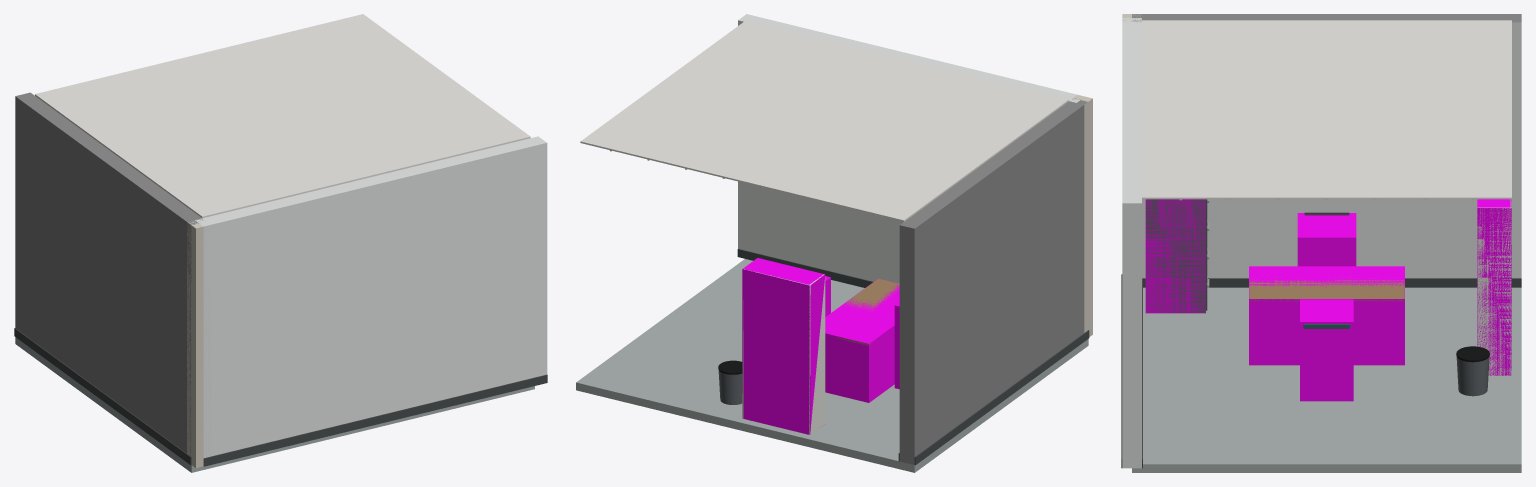
File: ENV_ResearchPhysicianOfficeB.glb
3 views of the same model, side by side, from view 1: azimuth 30°, elevation 25°; view 2: azimuth 150°, elevation 25°; view 3: azimuth 270°, elevation 25° (orthographic). The views are drawn at different scales.
Parts seen in each view (by area): view 1: ENV_ResearchPhysicianOfficeB_Architecture, ENV_ResearchPhysicianOfficeB_Ceiling, ENV_ResearchPhysicianOfficeB_Posts; view 2: ENV_ResearchPhysicianOfficeB_Architecture, ENV_ResearchPhysicianOfficeB_Ceiling, PROP_Bookcase_Binders_COL-colonly.001, PROP_Desk_Clinical_COL-colonly.001, ENV_ResearchPhysicianOfficeB_Posts, PROP_Bookcase_Binders_Mesh.001, PROP_Bin_Waste_Mesh, PROP_Desk_Clinical_Mesh.001; view 3: ENV_ResearchPhysicianOfficeB_Architecture, ENV_ResearchPhysicianOfficeB_Ceiling, PROP_Desk_Clinical_COL-colonly.001, PROP_Cabinet_Filing_4Drawer_Mesh.001, PROP_Cabinet_Filing_4Drawer_COL-colonly.001, PROP_Bookcase_Binders_COL-colonly.001, PROP_Chair_Visitor_COL-colonly.001, PROP_Bookcase_Binders_Mesh.001, PROP_Chair_Office_COL-colonly.002, PROP_Desk_Clinical_Mesh.001, PROP_Bin_Waste_Mesh.
Part boxes in pixels (x1,y1,x2,y2): ENV_ResearchPhysicianOfficeB_Architecture: (14,92,547,472); ENV_ResearchPhysicianOfficeB_Ceiling: (35,14,530,218); ENV_ResearchPhysicianOfficeB_Posts: (187,219,211,467); ENV_ResearchPhysicianOfficeB_Architecture: (576,14,1089,472); ENV_ResearchPhysicianOfficeB_Ceiling: (580,20,1068,221); PROP_Bookcase_Binders_COL-colonly.001: (742,258,825,434); PROP_Desk_Clinical_COL-colonly.001: (825,278,899,402); ENV_ResearchPhysicianOfficeB_Posts: (1073,95,1092,336); PROP_Bookcase_Binders_Mesh.001: (742,269,825,434); PROP_Bin_Waste_Mesh: (718,360,742,404); PROP_Desk_Clinical_Mesh.001: (829,278,899,345); ENV_ResearchPhysicianOfficeB_Architecture: (1121,14,1521,472); ENV_ResearchPhysicianOfficeB_Ceiling: (1142,20,1511,200); PROP_Desk_Clinical_COL-colonly.001: (1249,266,1404,365); PROP_Cabinet_Filing_4Drawer_Mesh.001: (1146,199,1209,312); PROP_Cabinet_Filing_4Drawer_COL-colonly.001: (1145,199,1205,313); PROP_Bookcase_Binders_COL-colonly.001: (1477,199,1511,375); PROP_Chair_Visitor_COL-colonly.001: (1300,299,1353,401); PROP_Bookcase_Binders_Mesh.001: (1477,199,1511,375); PROP_Chair_Office_COL-colonly.002: (1297,213,1356,266); PROP_Desk_Clinical_Mesh.001: (1249,277,1404,301); PROP_Bin_Waste_Mesh: (1456,346,1489,396).
Size of what is drawn, in the model's own units: 4.61 by 3.12 by 4.11.
